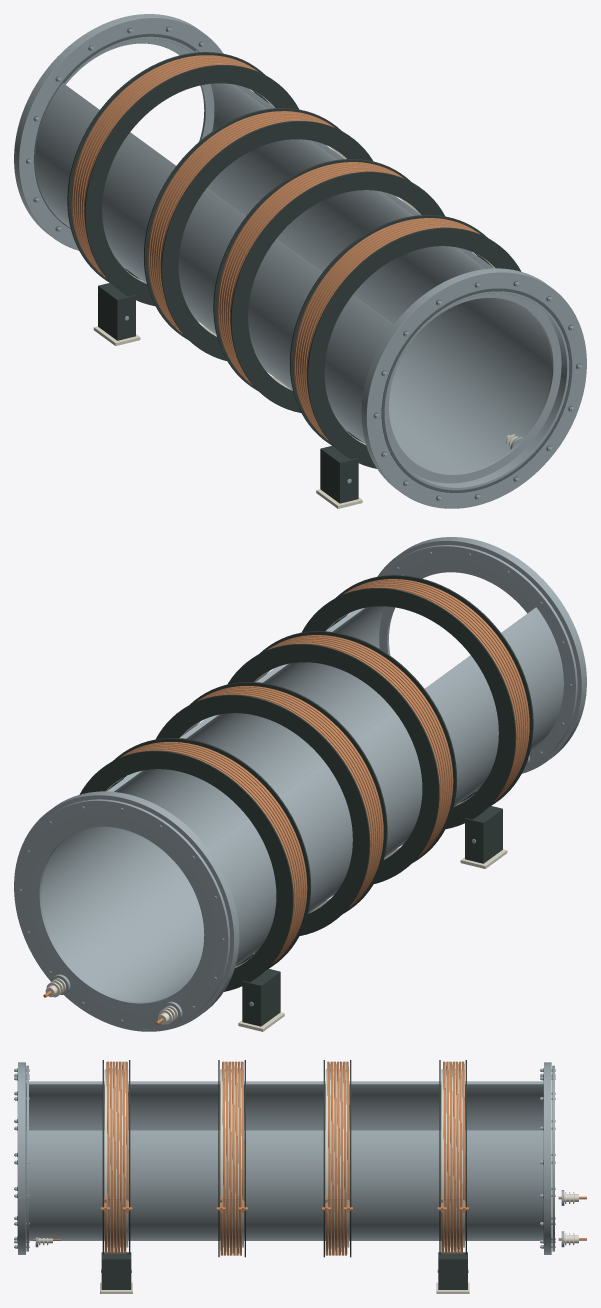
Rendered from centrifuge-assembly.glb.
The picture shows the model from 3 angles, top to bottom: view 1: azimuth 30°, elevation 25°; view 2: azimuth 150°, elevation 25°; view 3: azimuth 270°, elevation 25°; orthographic projection. The views are drawn at different scales.
Visible parts, largest first — view 1: Vessel pressure wall, Beveled vacuum flange, Beveled vacuum flange.001, Solenoid retaining cheek.006, Solenoid retaining cheek.002, Solenoid retaining cheek, Solenoid retaining cheek.004, End retaining plate, Recessed metallic seal, Machined saddle foot.002, Machined saddle foot, Solenoid retaining cheek.001 (+29 smaller); view 2: Vessel pressure wall, End retaining plate.001, Solenoid retaining cheek.003, Solenoid retaining cheek.007, End retaining plate, Solenoid retaining cheek.001, Solenoid retaining cheek.005, Beveled vacuum flange.001, Beveled vacuum flange, Machined saddle foot, Machined saddle foot.002, Solenoid retaining cheek (+27 smaller); view 3: Vessel pressure wall, Grooved alumina former.002, Grooved alumina former, Grooved alumina former.001, Grooved alumina former.003, Beveled vacuum flange.001, Beveled vacuum flange, Machined saddle foot.003, Machined saddle foot.001, Copper solenoid turn.012, Copper solenoid turn.019, Copper solenoid turn.018 (+35 smaller).
Boxes of the visible parts, box(x1,y1,x2,y2) form: Vessel pressure wall: box(35, 50, 564, 485); Beveled vacuum flange: box(361, 268, 586, 508); Beveled vacuum flange.001: box(14, 14, 223, 250); Solenoid retaining cheek.006: box(230, 171, 444, 412); Solenoid retaining cheek.002: box(84, 65, 299, 305); Solenoid retaining cheek: box(307, 227, 521, 468); Solenoid retaining cheek.004: box(161, 121, 373, 360); End retaining plate: box(386, 293, 561, 483); Recessed metallic seal: box(381, 288, 572, 492); Machined saddle foot.002: box(320, 446, 358, 503); Machined saddle foot: box(98, 283, 135, 340); Solenoid retaining cheek.001: box(67, 52, 264, 283); Vessel pressure wall: box(41, 574, 563, 1002); End retaining plate.001: box(15, 799, 229, 1029); Solenoid retaining cheek.003: box(156, 694, 370, 935); Solenoid retaining cheek.007: box(301, 588, 516, 828); End retaining plate: box(379, 545, 577, 769); Solenoid retaining cheek.001: box(79, 750, 293, 991); Solenoid retaining cheek.005: box(227, 644, 439, 883); Beveled vacuum flange.001: box(14, 791, 239, 1031); Beveled vacuum flange: box(377, 537, 586, 773); Machined saddle foot: box(242, 969, 280, 1026); Machined saddle foot.002: box(465, 806, 502, 863); Solenoid retaining cheek: box(336, 575, 533, 806); Vessel pressure wall: box(26, 1081, 543, 1240); Grooved alumina former.002: box(325, 1069, 349, 1247); Grooved alumina former: box(104, 1069, 128, 1247); Grooved alumina former.001: box(441, 1069, 464, 1247); Grooved alumina former.003: box(220, 1069, 243, 1247); Beveled vacuum flange.001: box(544, 1062, 551, 1254); Beveled vacuum flange: box(18, 1062, 25, 1254); Machined saddle foot.003: box(101, 1252, 131, 1289); Machined saddle foot.001: box(438, 1252, 467, 1289); Copper solenoid turn.012: box(331, 1061, 336, 1255); Copper solenoid turn.019: box(226, 1061, 231, 1255); Copper solenoid turn.018: box(229, 1061, 234, 1255).
Size of the model in its own units: 0.3163 by 0.3248 by 0.8715.
